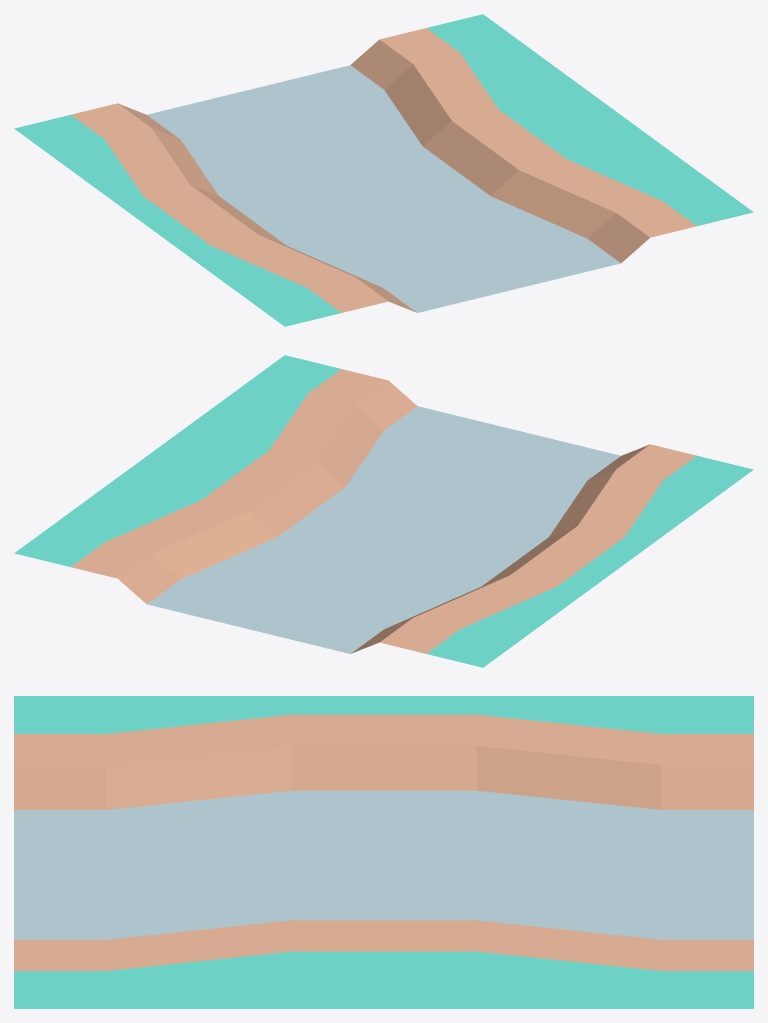
File: river_straight.glb
3 views of the same model, one above another, from view 1: azimuth 30°, elevation 25°; view 2: azimuth 150°, elevation 25°; view 3: azimuth 270°, elevation 25° (orthographic). The views are drawn at different scales.
Parts seen in each view (by area): view 1: ground_riverStraight; view 2: ground_riverStraight; view 3: ground_riverStraight.
Part boxes in pixels (box(x1,y1,x2,y2)): ground_riverStraight: box(14, 14, 753, 326); ground_riverStraight: box(14, 355, 753, 667); ground_riverStraight: box(14, 696, 753, 1008).
Bounding box in the file's own units: 100 × 3.79 × 100.
